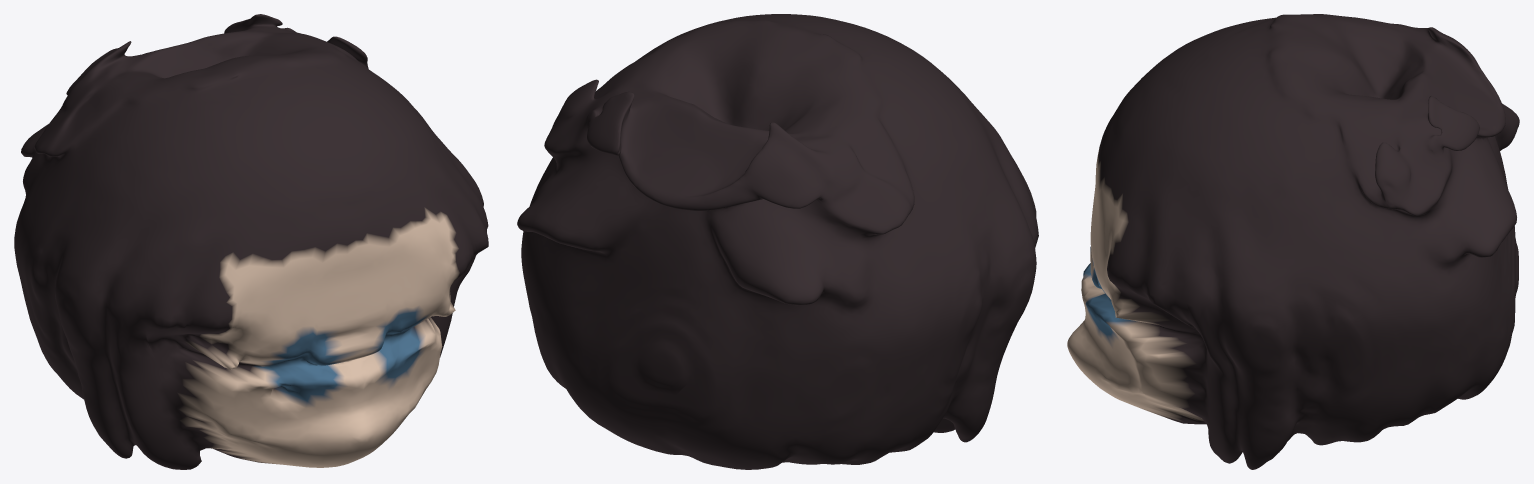
File: head.glb
The picture shows the model from 3 angles, left to right: view 1: azimuth 30°, elevation 25°; view 2: azimuth 150°, elevation 25°; view 3: azimuth 270°, elevation 25°; orthographic projection. The views are drawn at different scales.
Parts seen in each view (by area): view 1: geometry_0; view 2: geometry_0; view 3: geometry_0.
Boxes of the visible parts, x1=… form: geometry_0: x1=14, y1=14, x2=488, y2=469; geometry_0: x1=517, y1=14, x2=1038, y2=469; geometry_0: x1=1067, y1=14, x2=1519, y2=469.
Bounding box in the file's own units: 0.9324 × 0.7757 × 0.8628.
